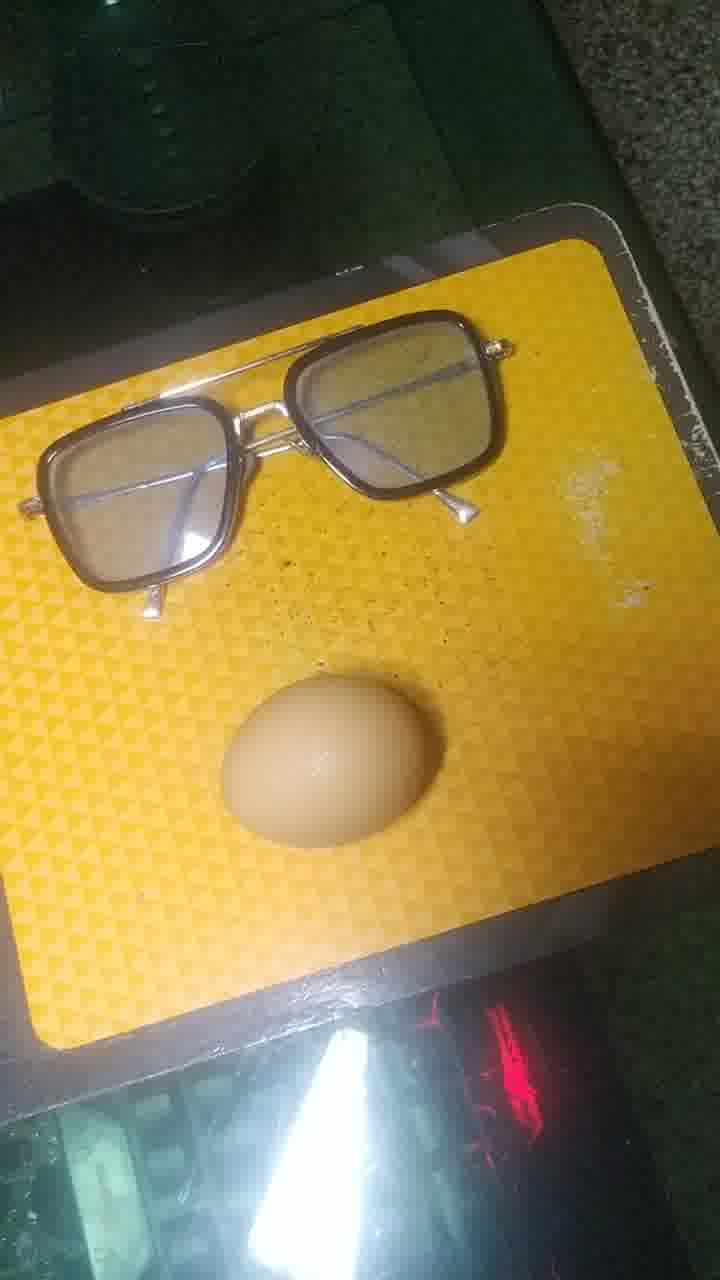egg: (208, 661, 457, 853)
sunglass: (20, 304, 534, 607)
